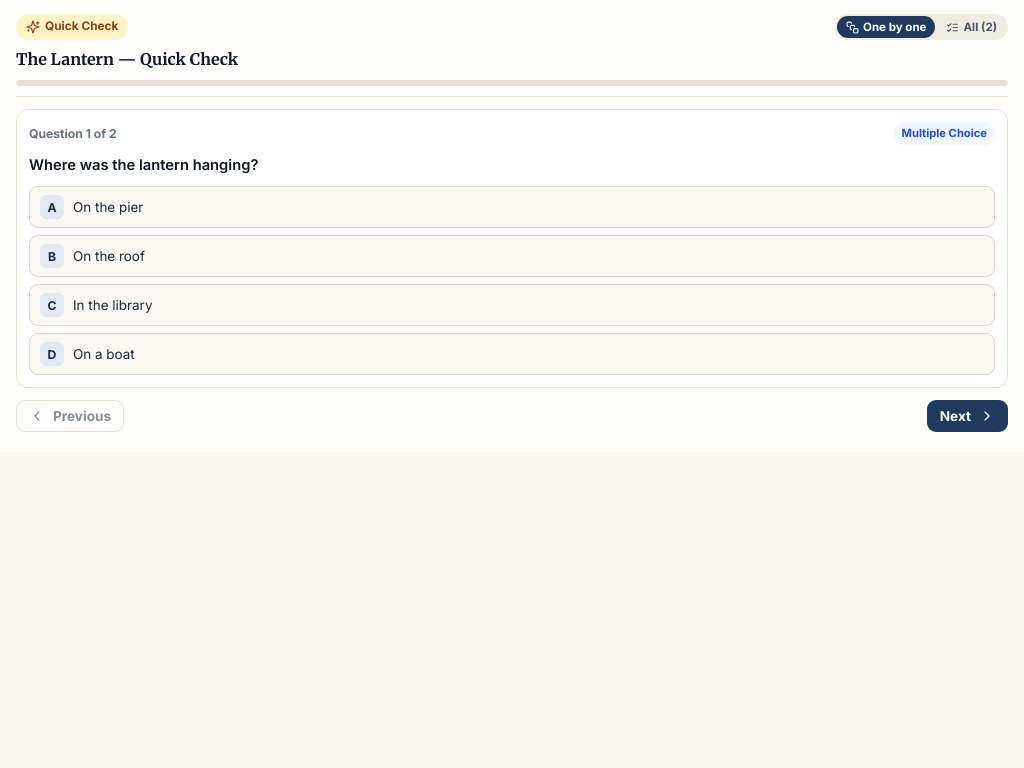
Test case: QuizPage › supports one-by-one mode with instant feedback, explanation, final score, and Try again
The image size is (1024, 768).
Expected: the text "Where was the lantern hanging?" is shown, [29,156,258,174]
Expected: the text "Multiple Choice" is shown, [894,122,995,145]
Click the button "B On the roof". click: (109, 256)
box: [29,235,995,277]
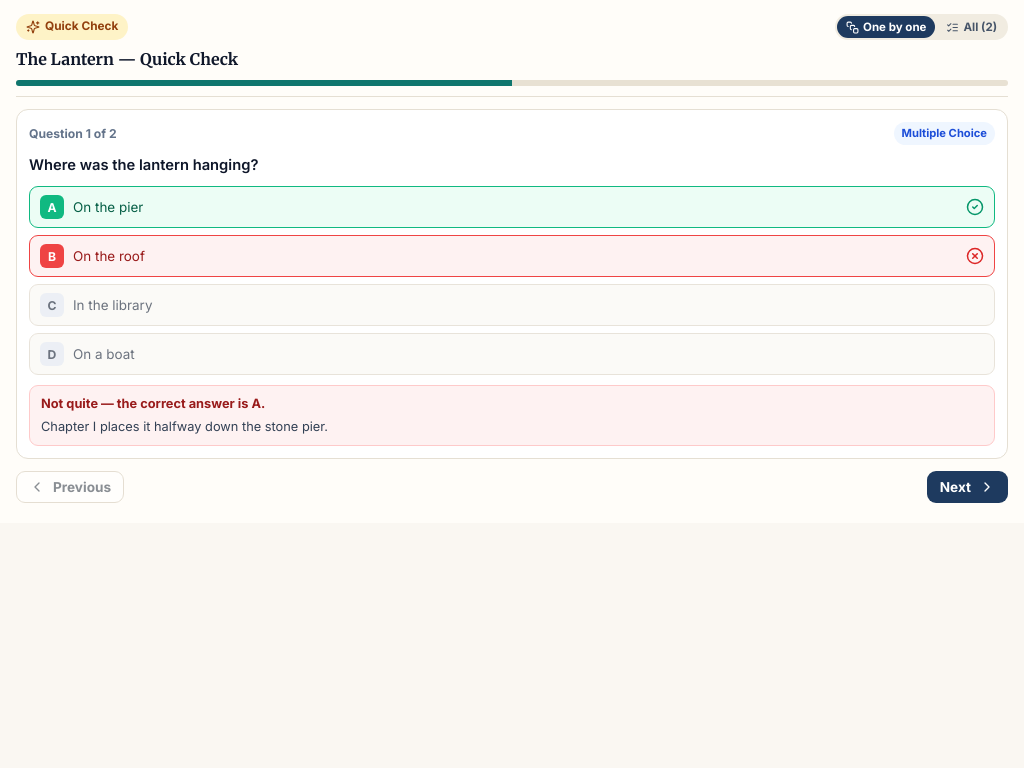
Expected: the text "Not quite — the correct answer is A." is shown, [41,396,265,411]
Expected: the text "Chapter I places it halfway down the stone pier." is shown, [41,419,328,434]
Click the button "Next". click: (967, 487)
box: [927,471,1008,503]
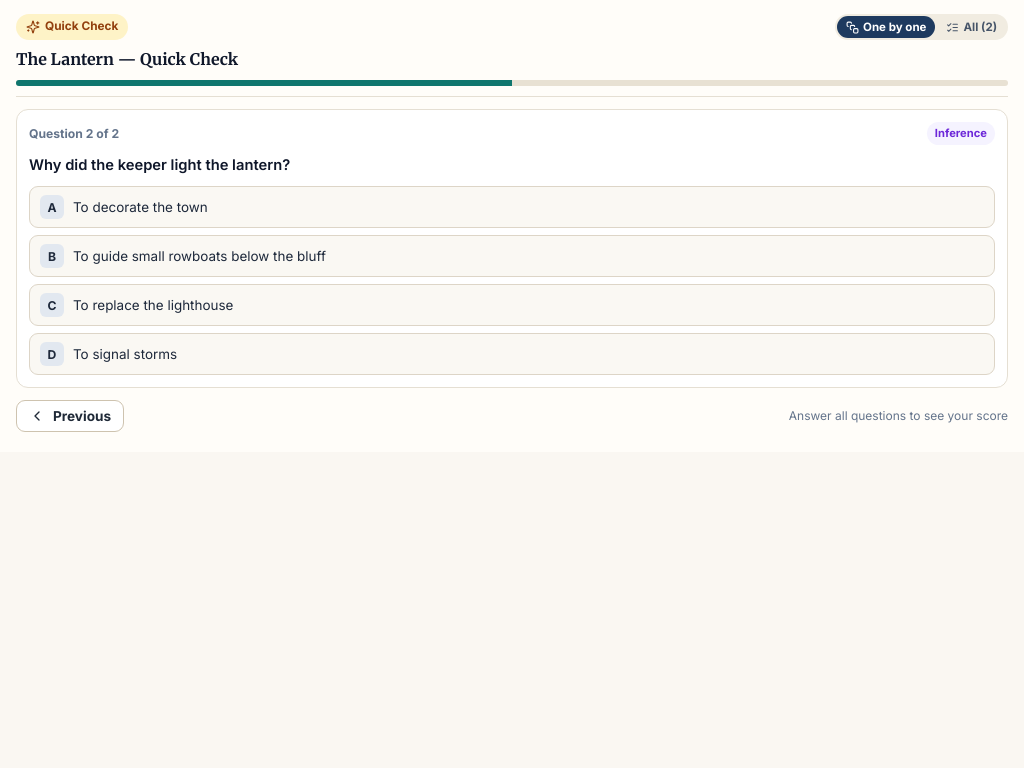
Expected: the text "Why did the keeper light the lantern?" is shown, [29,156,290,174]
Expected: the text "Inference" is shown, [927,122,995,145]
Click the button "B To guide small rowboats below the bluff". click: (199, 256)
box: [29,235,995,277]
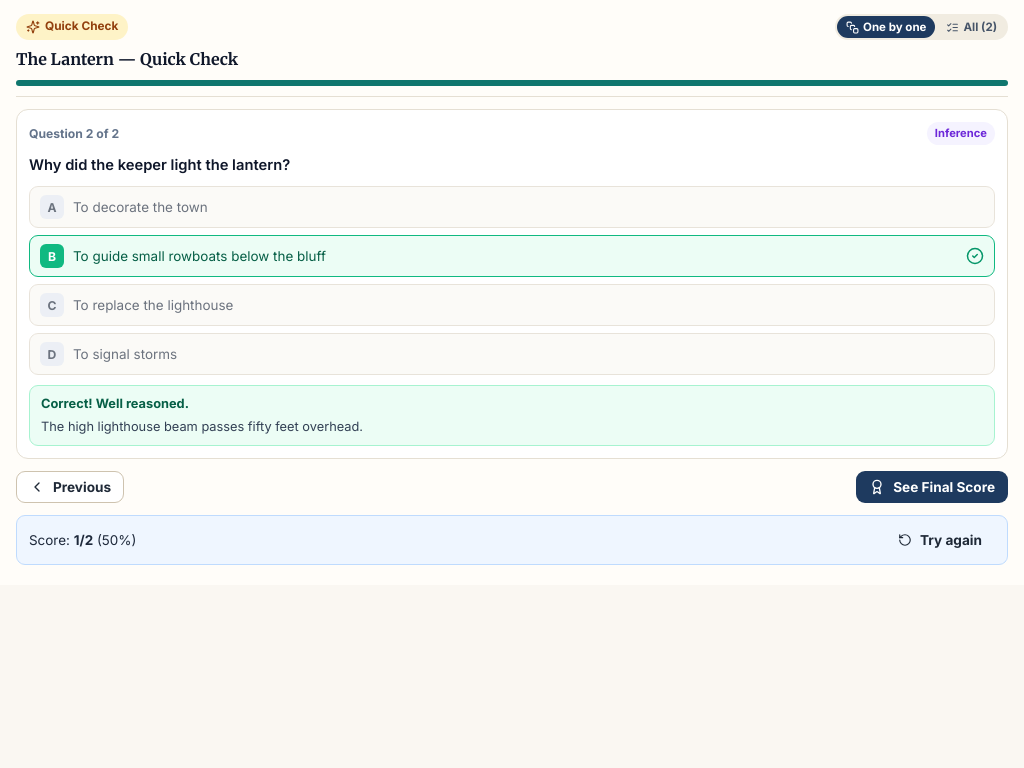
Expected: the text "Correct! Well reasoned." is shown, [41,396,189,411]
Click the button "See Final Score". click: (932, 487)
box: [856,471,1008,503]
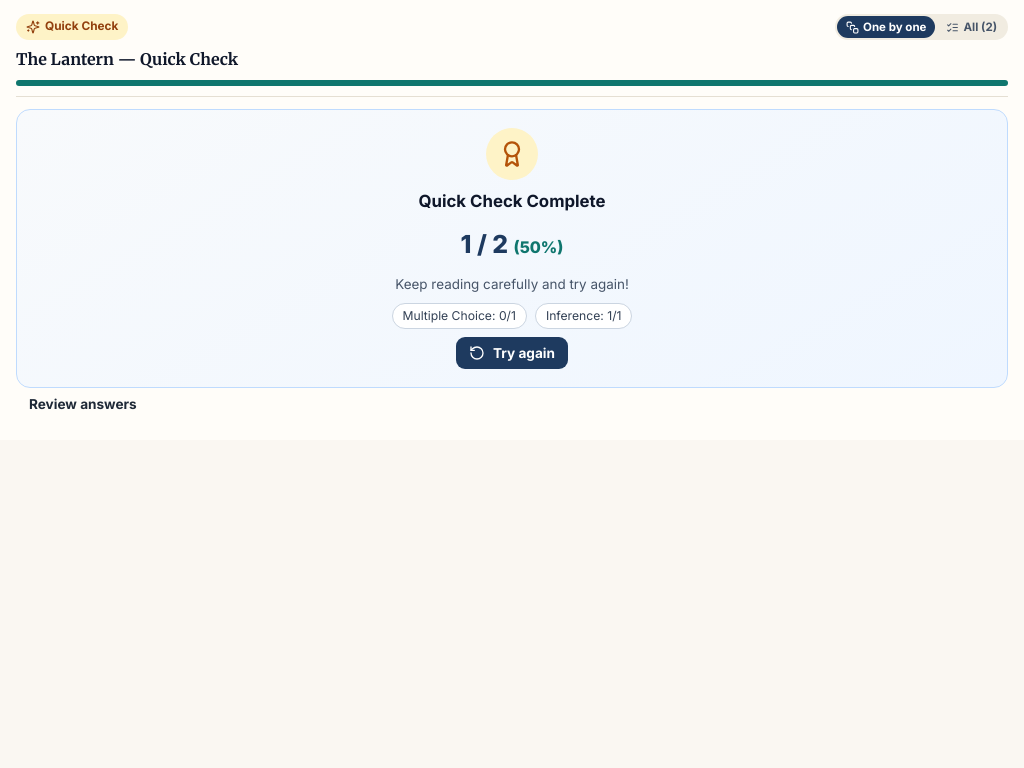
Expected: the heading "Quick Check Complete" is shown, [418,188,606,216]
Expected: the text "1 / 2 (50%)" is shown, [460,224,563,265]
Expected: the text "(50%)" is shown, [514,237,563,257]
Click the button "Try again". click: (512, 353)
box: [456,337,568,369]
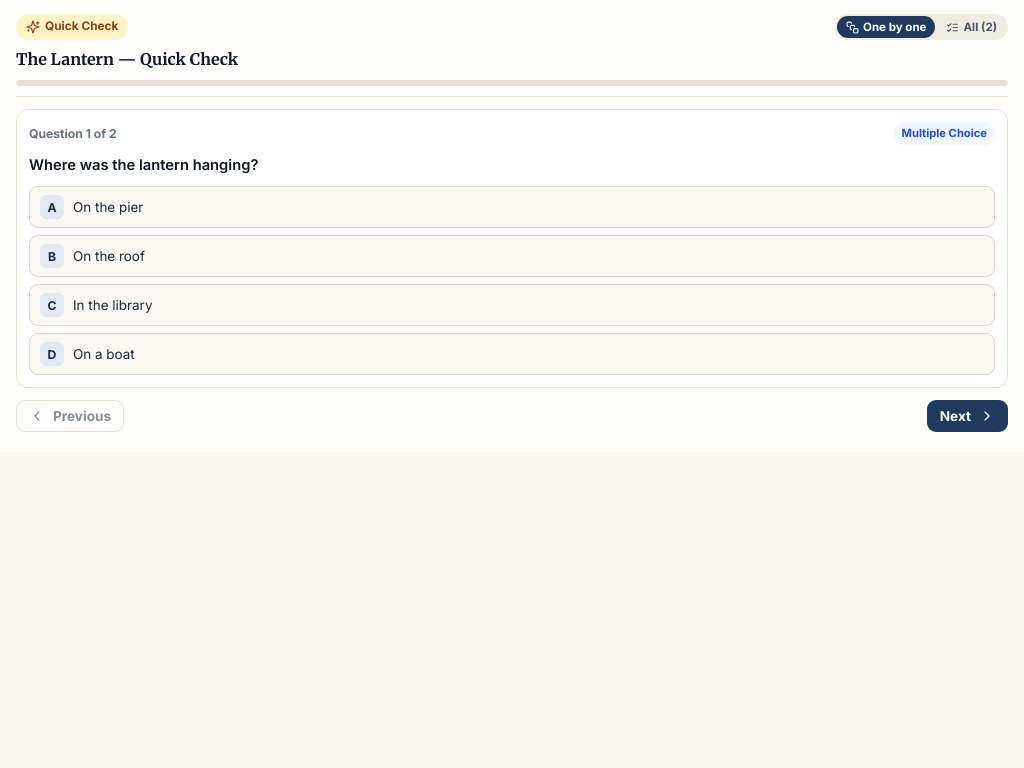
Expected: the text "Where was the lantern hanging?" is shown, [29,156,258,174]
